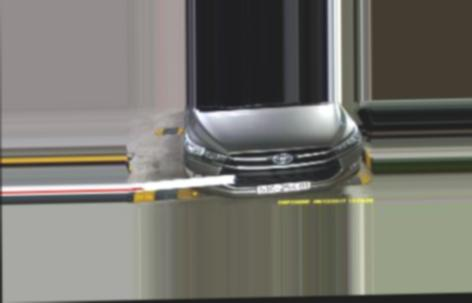License_Plate: (254, 179, 315, 194)
